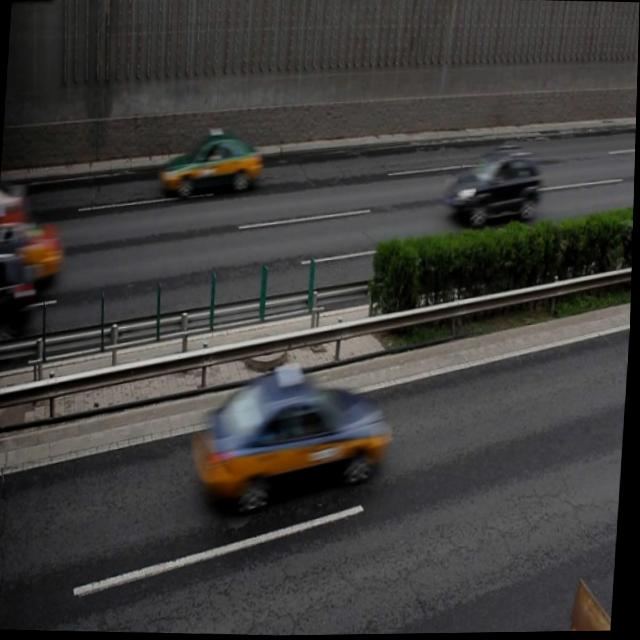car: (192, 360, 391, 511), (443, 147, 545, 231), (158, 132, 264, 202), (0, 219, 66, 285)
